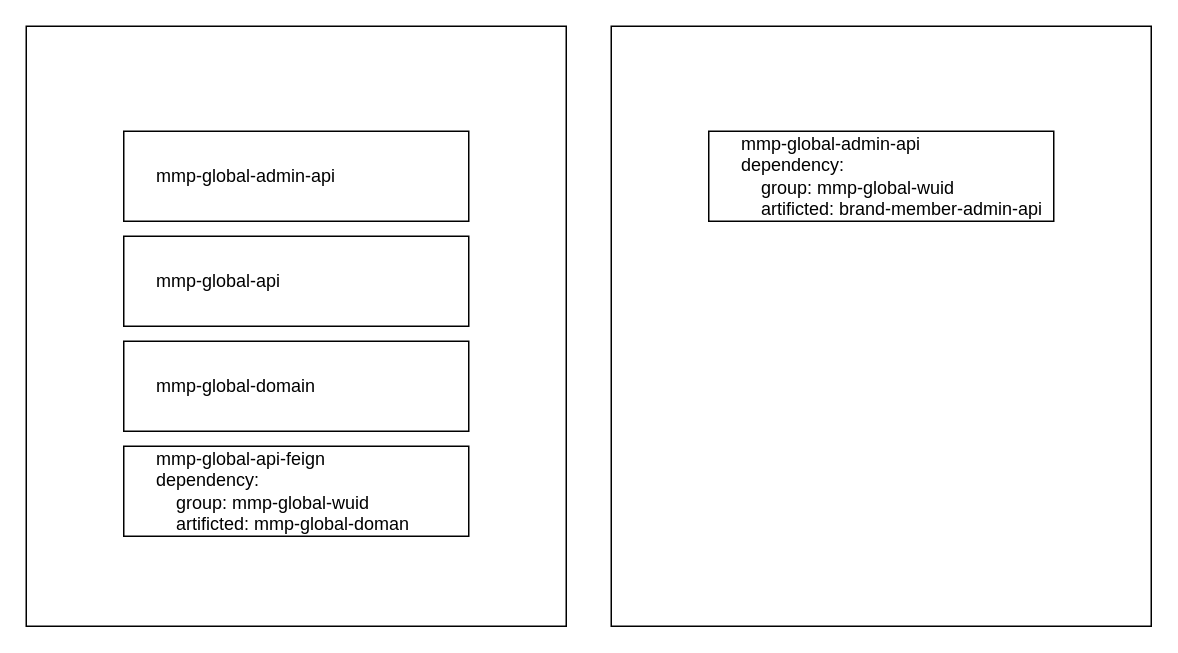
This 1178x653 diagram has some shape labels left out. The shapes that lost their labels are listed below. From the top down, each one's box as (x1, y1, x2, y2) in pixels, then its label:
(25, 25, 566, 626): mmp-wuid
(610, 25, 1151, 626): mmp-member-brand
